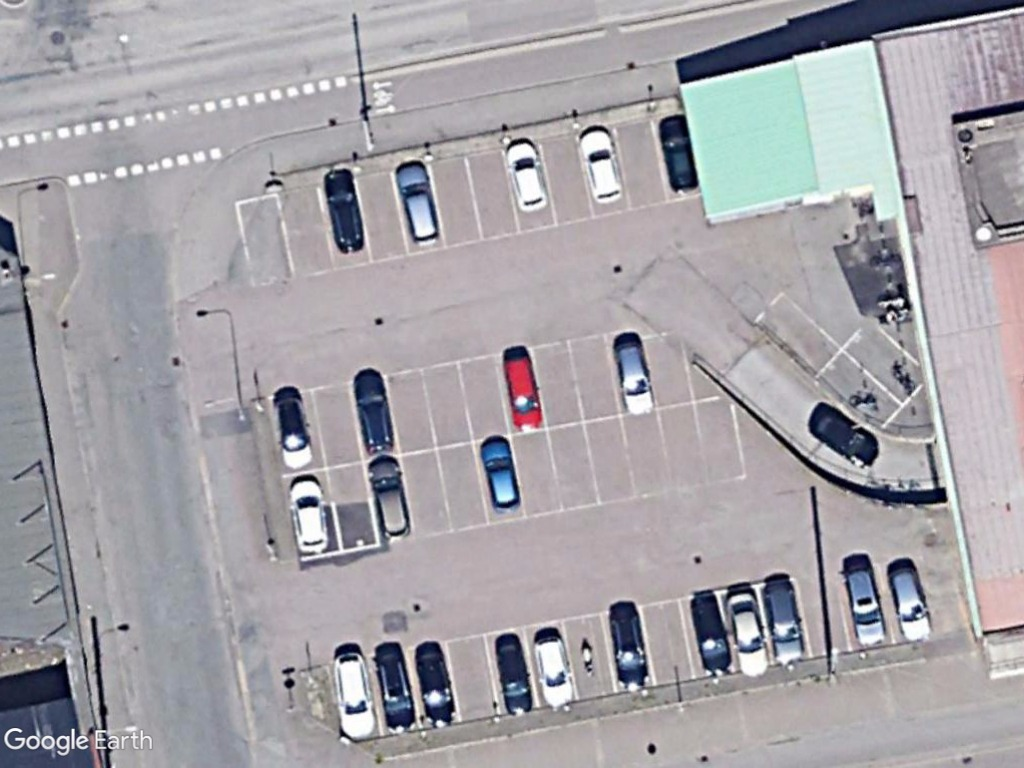car: (803, 404, 886, 475), (719, 583, 774, 683), (755, 574, 810, 672), (836, 558, 892, 654), (325, 646, 378, 746), (391, 156, 444, 253), (318, 166, 372, 260), (883, 560, 939, 650), (603, 603, 656, 697), (347, 366, 400, 459), (685, 590, 738, 683), (371, 639, 420, 739), (361, 454, 415, 544), (411, 640, 463, 733), (655, 114, 709, 202), (573, 123, 626, 212), (491, 630, 542, 722), (608, 333, 658, 424), (474, 435, 526, 520), (285, 468, 334, 558), (269, 389, 319, 477), (499, 348, 549, 435), (501, 137, 553, 217), (529, 629, 579, 712)
